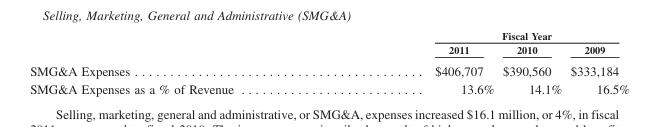table: (29, 29, 629, 95)
table column: (29, 29, 333, 95), (333, 29, 497, 95), (497, 29, 565, 95), (565, 29, 629, 95)
table column header: (29, 29, 629, 59)
table row: (29, 59, 629, 79), (29, 42, 629, 59), (29, 79, 629, 95), (29, 29, 629, 42)
table spanning cell: (333, 29, 629, 42)
